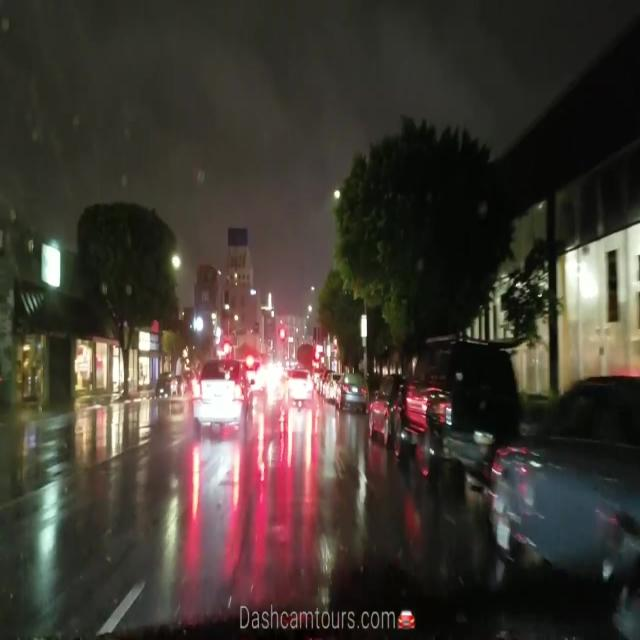Car: (492, 370, 639, 622), (392, 332, 503, 511), (189, 362, 251, 442), (365, 375, 400, 451), (336, 370, 362, 418), (284, 369, 311, 410)
